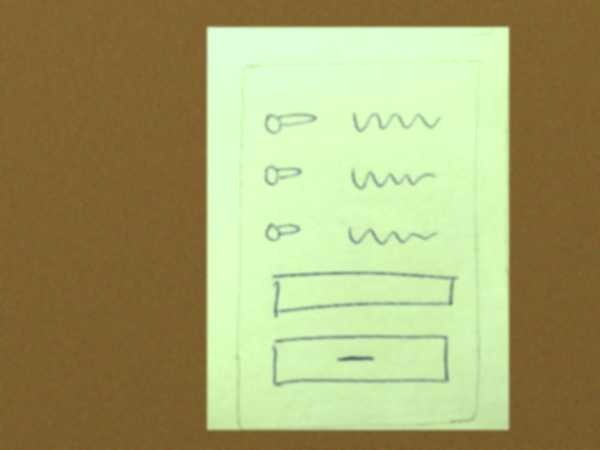button: (265, 330, 455, 390)
switch: (259, 104, 321, 141), (260, 161, 311, 192), (261, 215, 309, 246)
text: (342, 99, 447, 140), (342, 215, 444, 257), (344, 161, 440, 193)
text_input: (265, 265, 460, 319)
